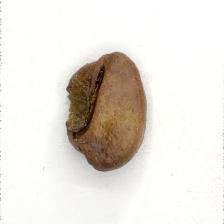NG: (65, 55, 111, 151)
